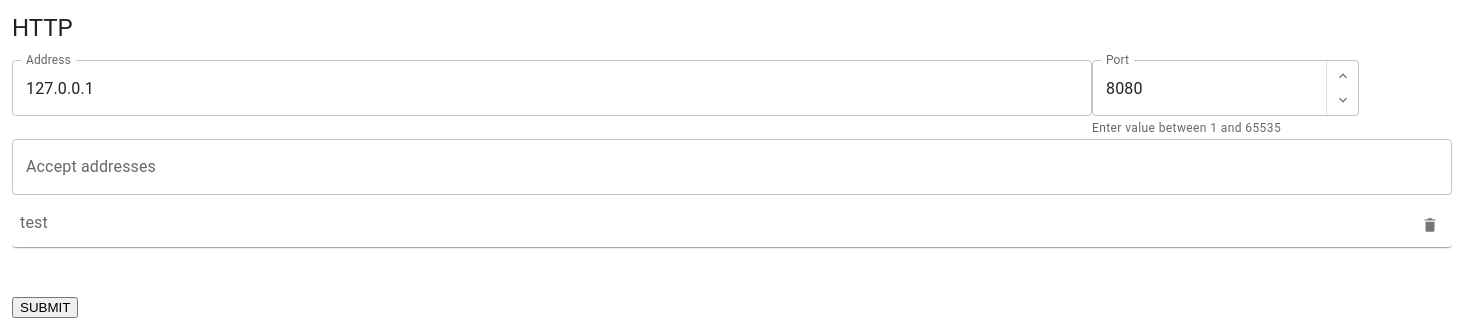
Test: Input HTTP › Components › Port › Port range is 1 to 65535
The image size is (1464, 335).
Replace the text in the field labelled "Port" with "0" at (1209, 88), box [1092,60,1326,116]
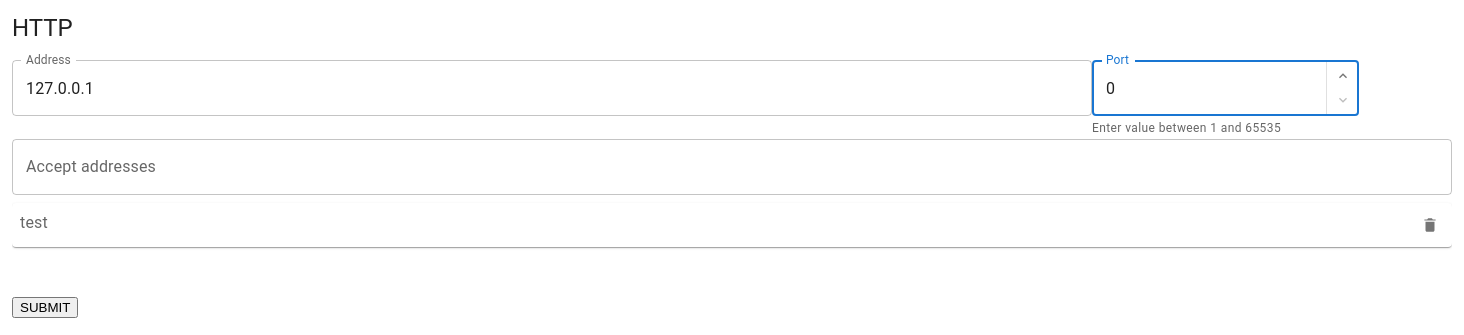
Press Arrowdown
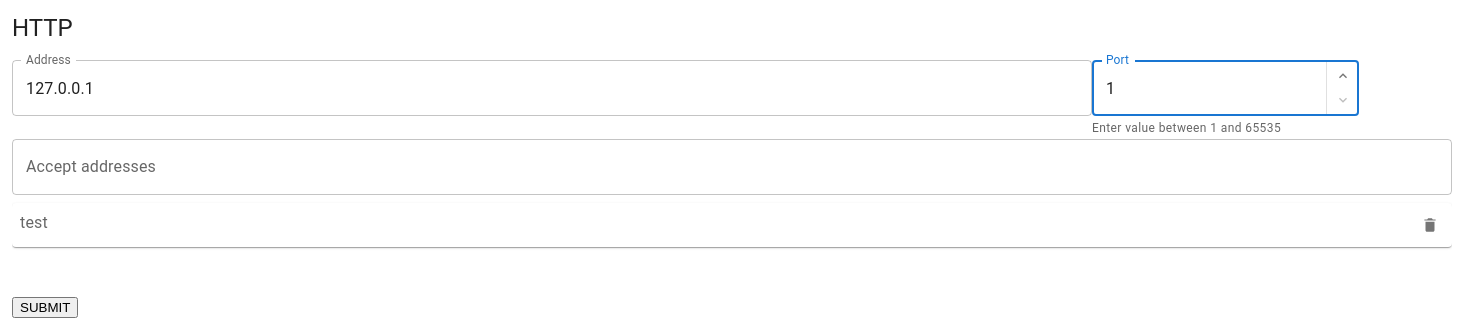
Check: the field labelled "Port" holds "1"
Replace the text in the field labelled "Port" with "65536" at (1209, 88), box [1092,60,1326,116]
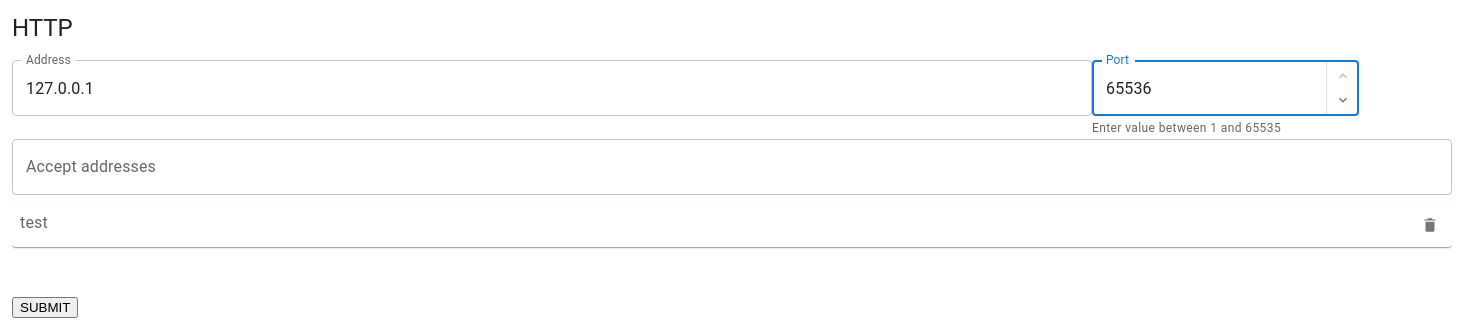
Press Arrowup
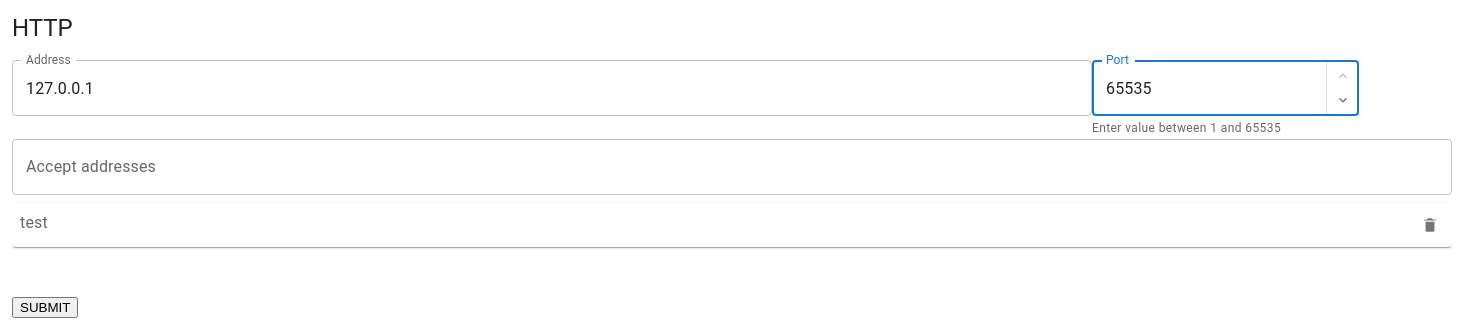
Check: the field labelled "Port" holds "65535", box [1092,60,1326,116]
